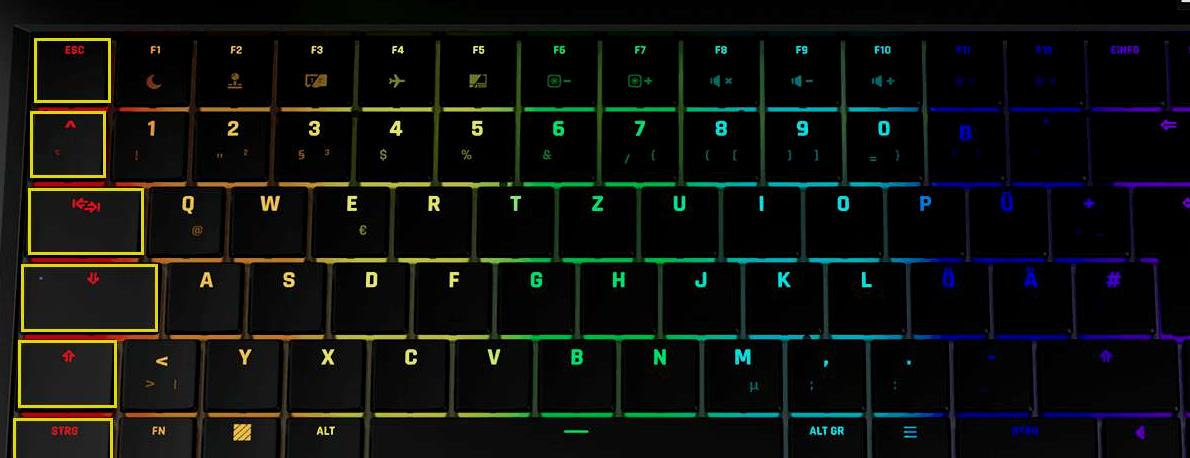0: (842, 107, 920, 178)
1: (107, 105, 184, 177)
2: (190, 105, 267, 178)
3: (271, 105, 348, 178)
4: (354, 105, 430, 179)
5: (436, 105, 512, 178)
6: (517, 106, 594, 178)
7: (600, 107, 675, 178)
8: (680, 105, 757, 179)
9: (762, 106, 839, 178)
a: (160, 255, 240, 330)
accent: (1008, 106, 1083, 177)
ae: (990, 256, 1069, 331)
alt-left: (281, 410, 361, 458)
altgr-right: (784, 411, 864, 458)
b: (531, 332, 615, 409)
c: (366, 332, 447, 408)
caret: (26, 105, 101, 172)
comma: (783, 333, 862, 408)
d: (327, 254, 405, 330)
del: (1090, 106, 1190, 177)
e: (307, 179, 387, 253)
enter: (1130, 181, 1190, 331)
f: (410, 255, 488, 330)
g: (492, 255, 570, 330)
h: (575, 256, 653, 330)
hash: (1072, 256, 1151, 331)
i: (720, 181, 798, 253)
j: (658, 256, 737, 331)
k: (741, 255, 821, 331)
keyboard: (1, 18, 1190, 458)
l: (825, 256, 903, 331)
less: (115, 331, 197, 406)
m: (699, 332, 780, 409)
minus: (950, 334, 1030, 408)
n: (617, 333, 697, 408)
o: (801, 181, 880, 254)
oe: (907, 255, 986, 331)
p: (884, 181, 963, 253)
plus: (1048, 180, 1126, 253)
point: (867, 334, 947, 408)
q: (142, 179, 223, 253)
r: (389, 179, 471, 253)
s: (244, 254, 323, 330)
shift-left: (14, 334, 112, 402)
shift-lock: (19, 258, 154, 327)
shift-right: (1035, 333, 1175, 409)
space: (365, 412, 780, 458)
ss: (924, 107, 1002, 177)
strg-left: (8, 412, 109, 458)
strg-right: (953, 412, 1097, 458)
t: (473, 180, 551, 253)
tab: (25, 183, 139, 251)
u: (636, 180, 715, 254)
ue: (965, 180, 1045, 254)
v: (450, 332, 530, 408)
w: (226, 179, 305, 253)
x: (282, 332, 363, 407)
y: (201, 332, 280, 407)
z: (554, 180, 633, 255)
